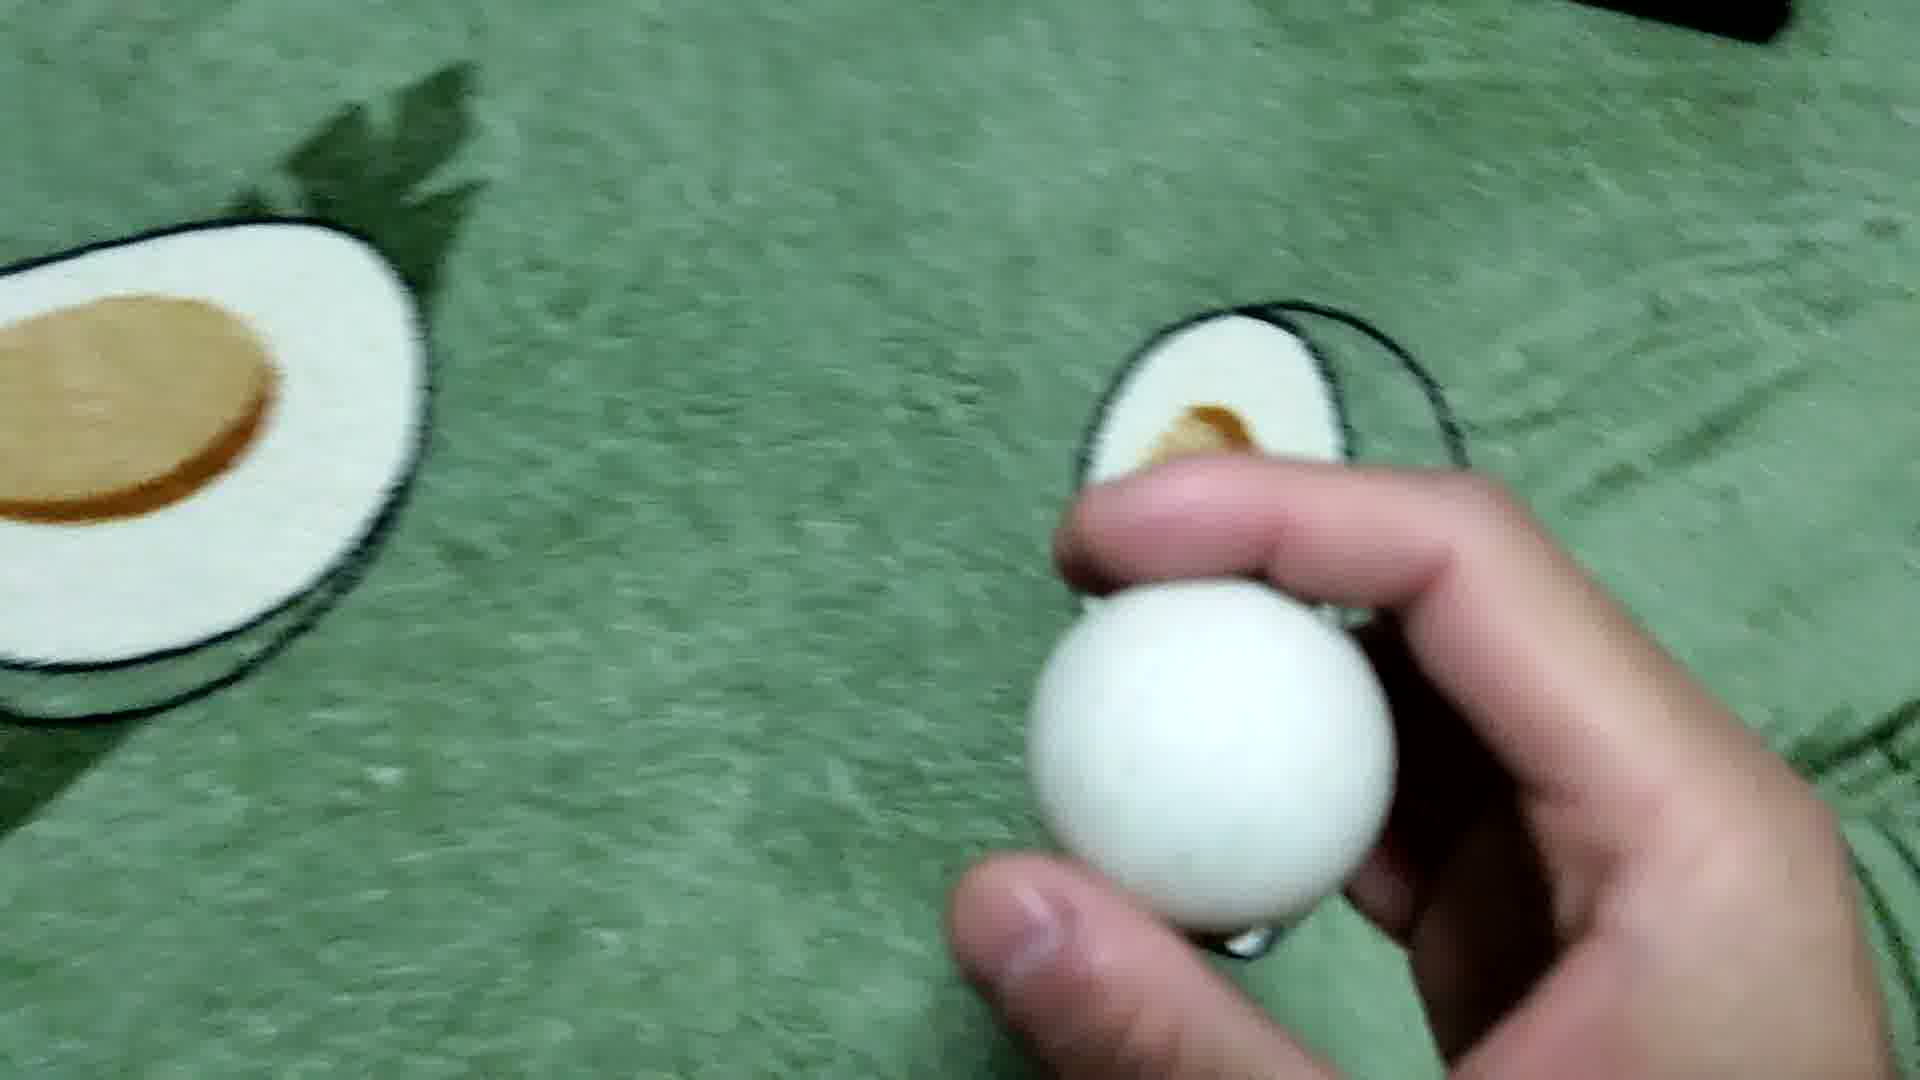Ball: (1030, 579, 1396, 920)
